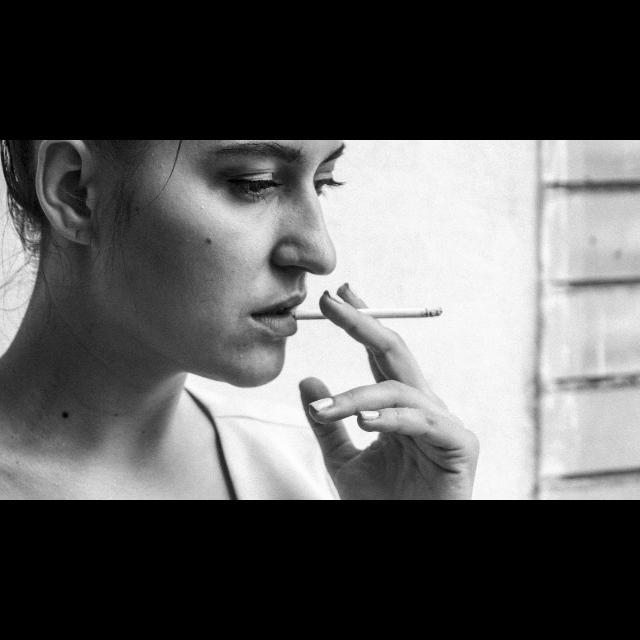rokok: (284, 300, 448, 328)
